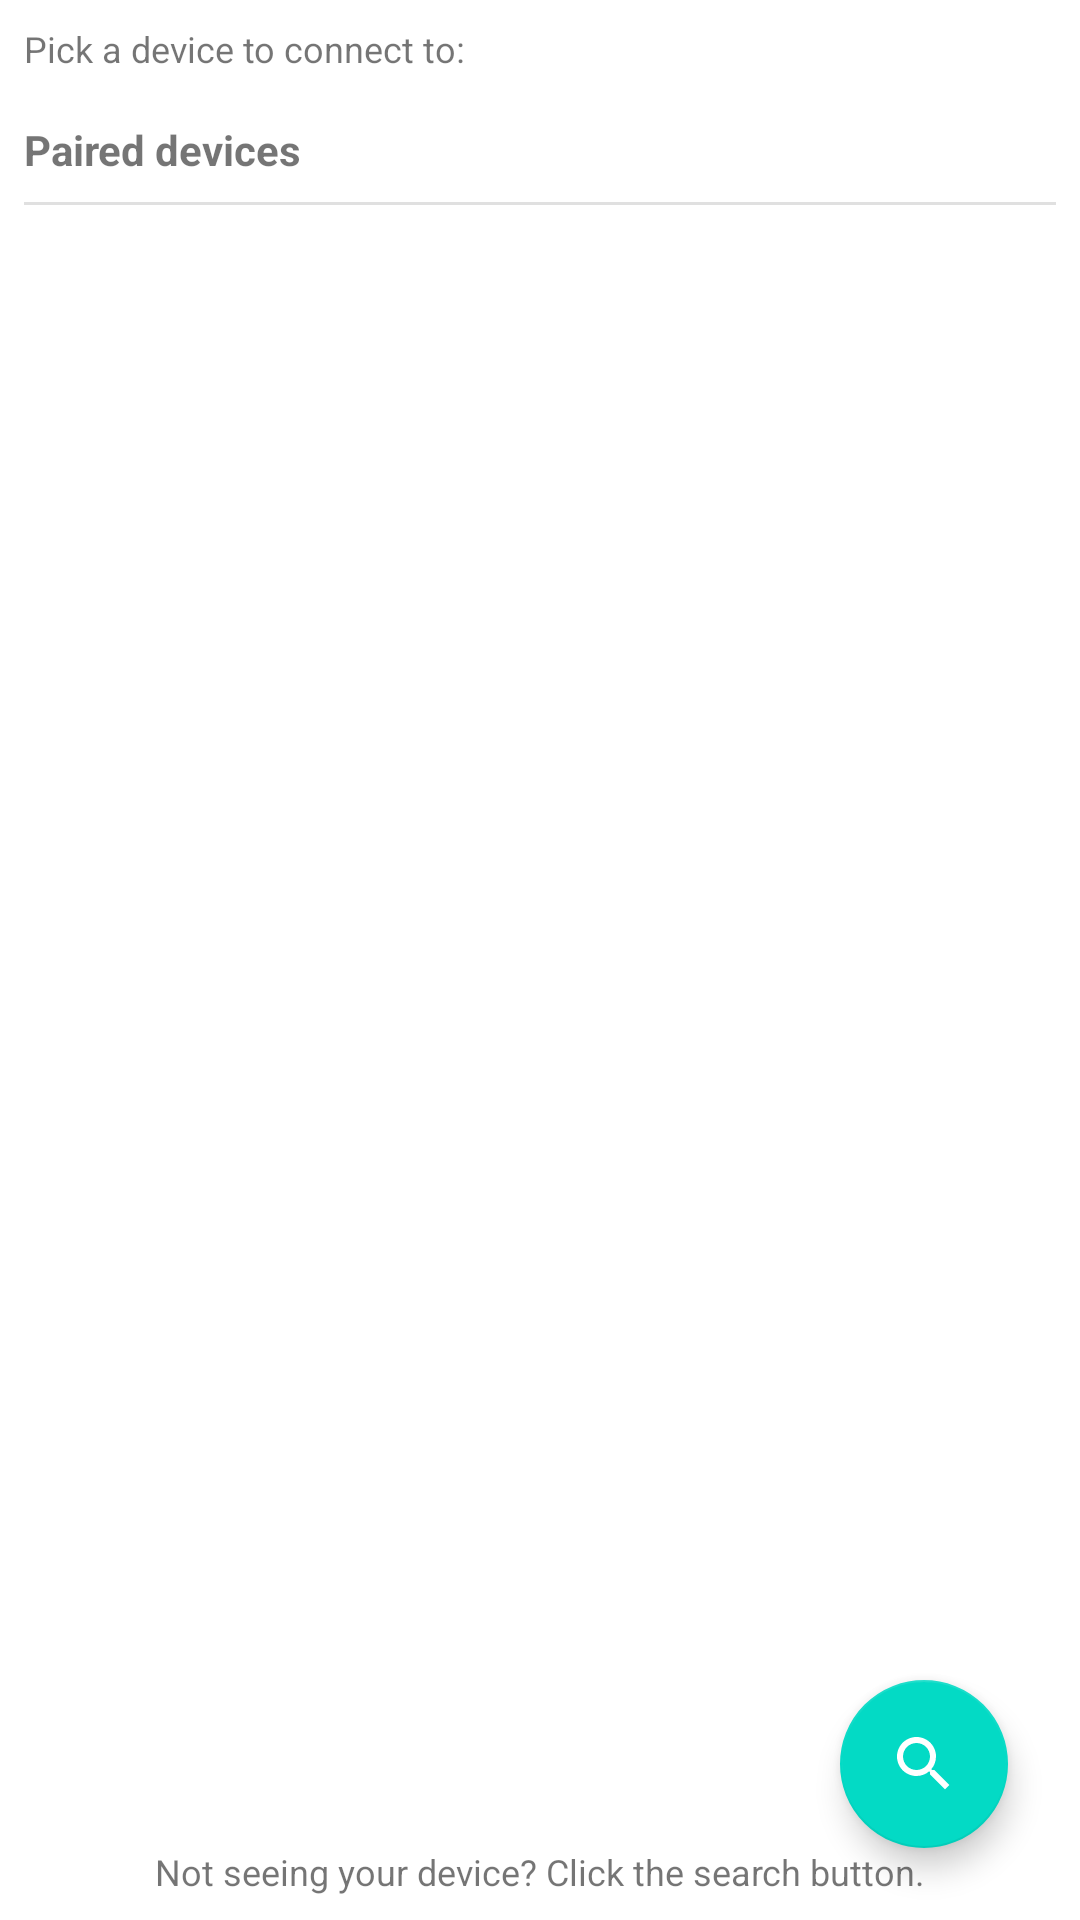

Locate icon controls on the screen. Image size 1080w x 1920h, boxes as (x1, y1, x2, y2).
Search for devices: (840, 1680, 1008, 1848)
